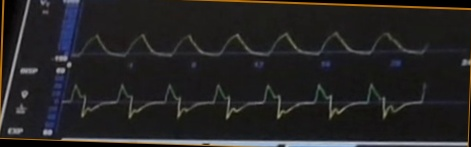Premature_cycling Flow: (65, 77, 433, 132)
Premature_cycling Volume: (76, 17, 437, 59)
